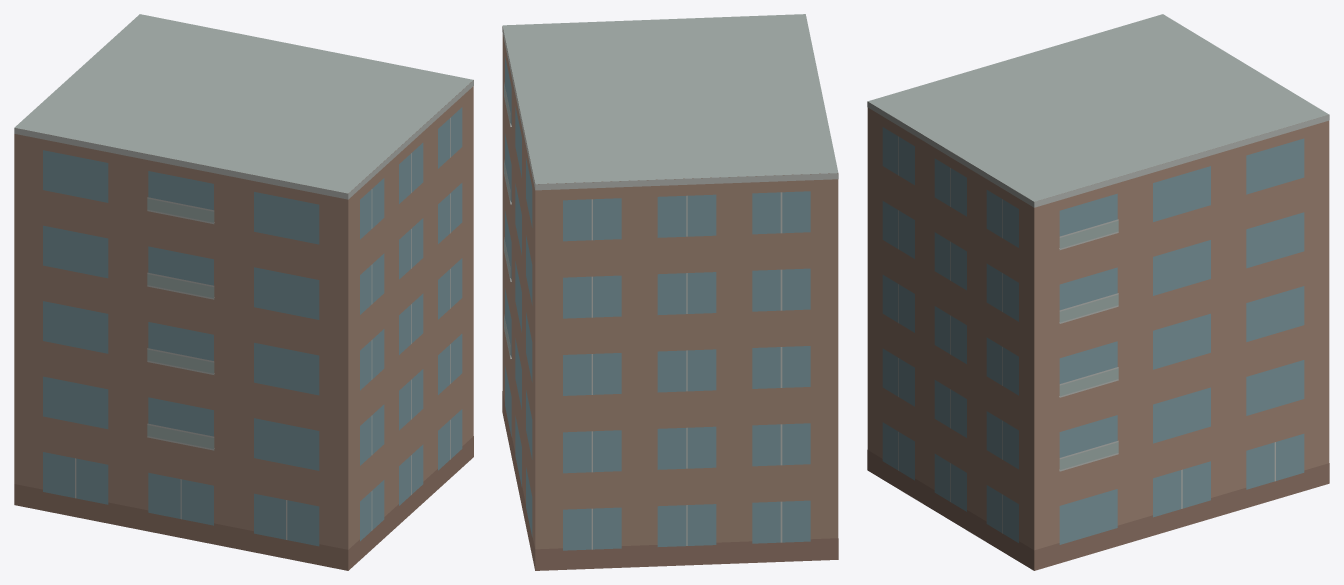
The model's file is residential-bce82073-691e-4765-850b-671af0346b4d.glb.
3 renders of one model, left to right at view 1: azimuth 30°, elevation 25°; view 2: azimuth 150°, elevation 25°; view 3: azimuth 270°, elevation 25°, orthographic. The views are drawn at different scales.
Parts seen in each view (by area): view 1: residential-bce82073-691e-4765-850b-671af0346b4d.tmp; view 2: residential-bce82073-691e-4765-850b-671af0346b4d.tmp; view 3: residential-bce82073-691e-4765-850b-671af0346b4d.tmp.
Boxes of the visible parts, x1,y1,x2,y2 form: residential-bce82073-691e-4765-850b-671af0346b4d.tmp: (14, 14, 473, 570); residential-bce82073-691e-4765-850b-671af0346b4d.tmp: (502, 14, 838, 570); residential-bce82073-691e-4765-850b-671af0346b4d.tmp: (867, 14, 1329, 570).
Bounding box in the file's own units: 16.66 × 15.25 × 17.31.
